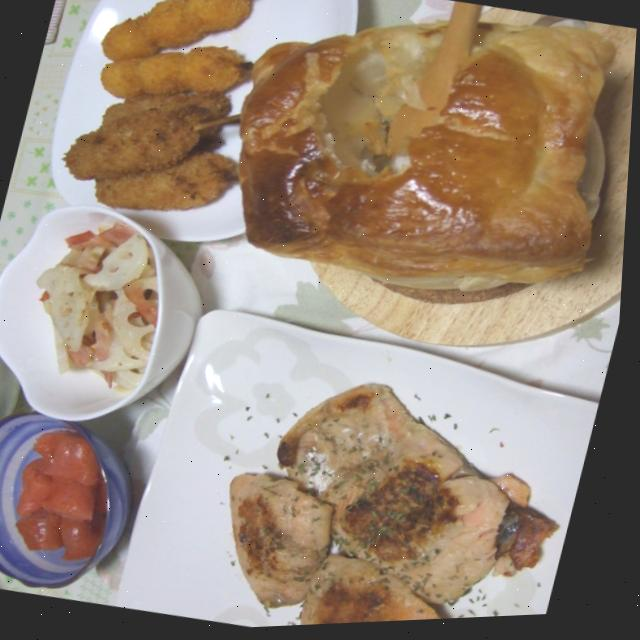熟制海鲜: (169, 362, 585, 633)
